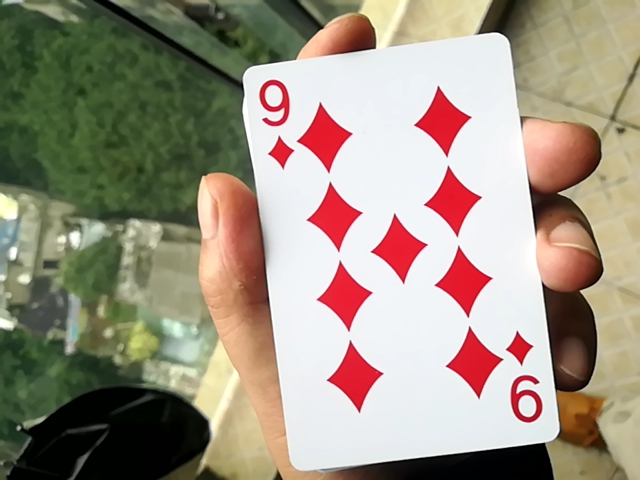fk 9: (225, 21, 551, 467)
